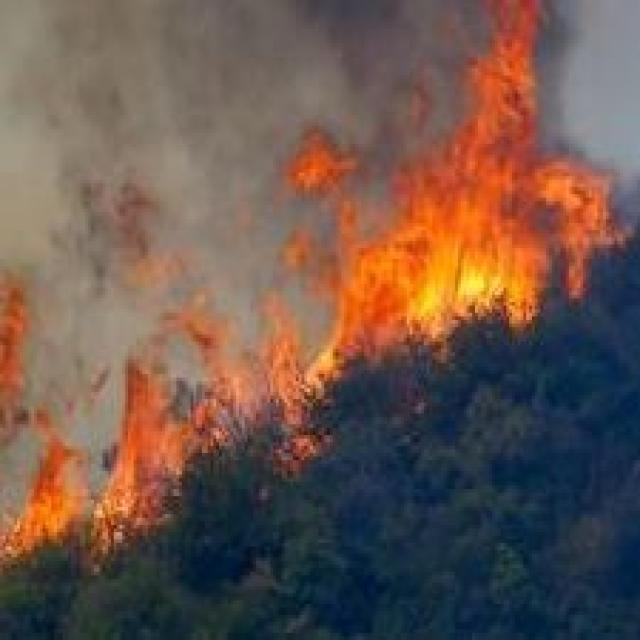Fire: (328, 26, 612, 400), (92, 361, 186, 546), (216, 304, 315, 469), (15, 428, 88, 570), (298, 118, 355, 222), (2, 269, 22, 441)
Smoke: (85, 0, 368, 325)
